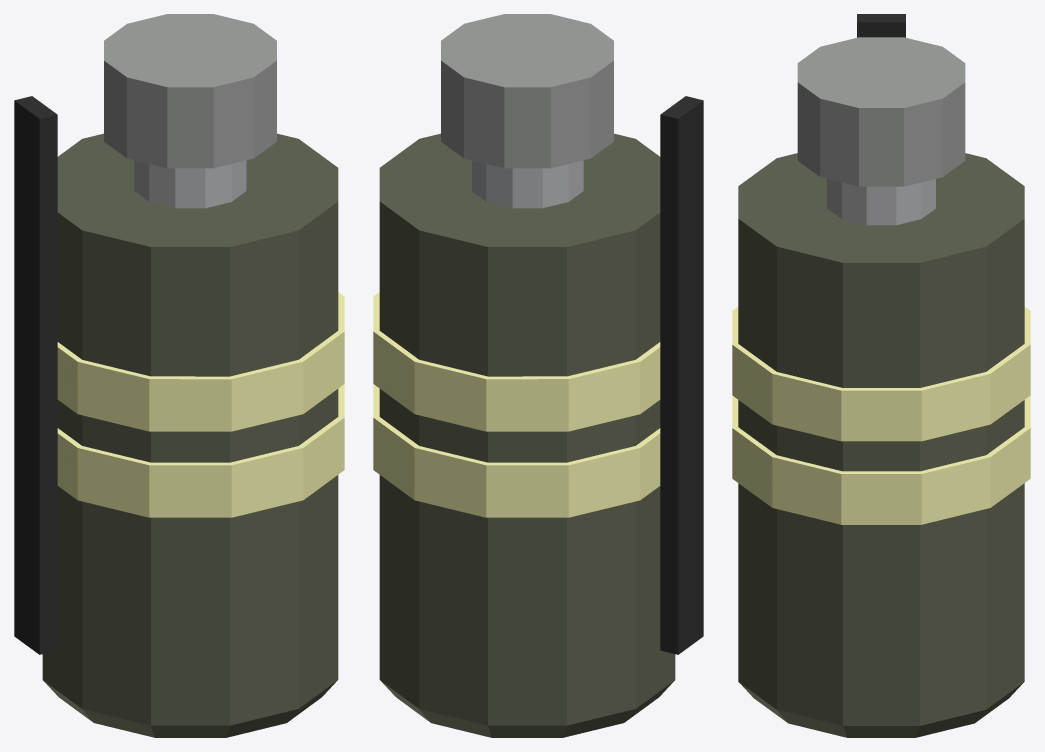
The model's file is ce_handgren_smoke.obj.
3 views of the same model, side by side, from view 1: azimuth 30°, elevation 25°; view 2: azimuth 150°, elevation 25°; view 3: azimuth 270°, elevation 25° (orthographic). The views are drawn at different scales.
Visible parts, largest first — view 1: ce_handgren_smoke_body, ce_handgren_smoke_head, ce_handgren_smoke_spoon, ce_handgren_smoke_band0, ce_handgren_smoke_band1, ce_handgren_smoke_neck; view 2: ce_handgren_smoke_body, ce_handgren_smoke_head, ce_handgren_smoke_spoon, ce_handgren_smoke_band0, ce_handgren_smoke_band1, ce_handgren_smoke_neck; view 3: ce_handgren_smoke_body, ce_handgren_smoke_head, ce_handgren_smoke_band0, ce_handgren_smoke_band1, ce_handgren_smoke_neck, ce_handgren_smoke_spoon.
Part boxes in pixels (left/top/right/bottom): ce_handgren_smoke_body: left=42, top=133, right=338, bottom=737; ce_handgren_smoke_head: left=104, top=14, right=276, bottom=168; ce_handgren_smoke_spoon: left=14, top=96, right=57, bottom=654; ce_handgren_smoke_band0: left=57, top=292, right=344, bottom=431; ce_handgren_smoke_band1: left=57, top=384, right=344, bottom=517; ce_handgren_smoke_neck: left=134, top=160, right=246, bottom=208; ce_handgren_smoke_body: left=379, top=133, right=675, bottom=737; ce_handgren_smoke_head: left=441, top=14, right=613, bottom=168; ce_handgren_smoke_spoon: left=660, top=96, right=703, bottom=654; ce_handgren_smoke_band0: left=373, top=292, right=660, bottom=431; ce_handgren_smoke_band1: left=373, top=384, right=660, bottom=517; ce_handgren_smoke_neck: left=471, top=160, right=583, bottom=208; ce_handgren_smoke_body: left=738, top=153, right=1024, bottom=737; ce_handgren_smoke_head: left=797, top=37, right=965, bottom=186; ce_handgren_smoke_band0: left=732, top=306, right=1030, bottom=441; ce_handgren_smoke_band1: left=732, top=395, right=1030, bottom=524; ce_handgren_smoke_neck: left=827, top=179, right=935, bottom=225; ce_handgren_smoke_spoon: left=857, top=14, right=905, bottom=37.
Size of the model in its own units: 0.0812 by 0.165 by 0.073.
